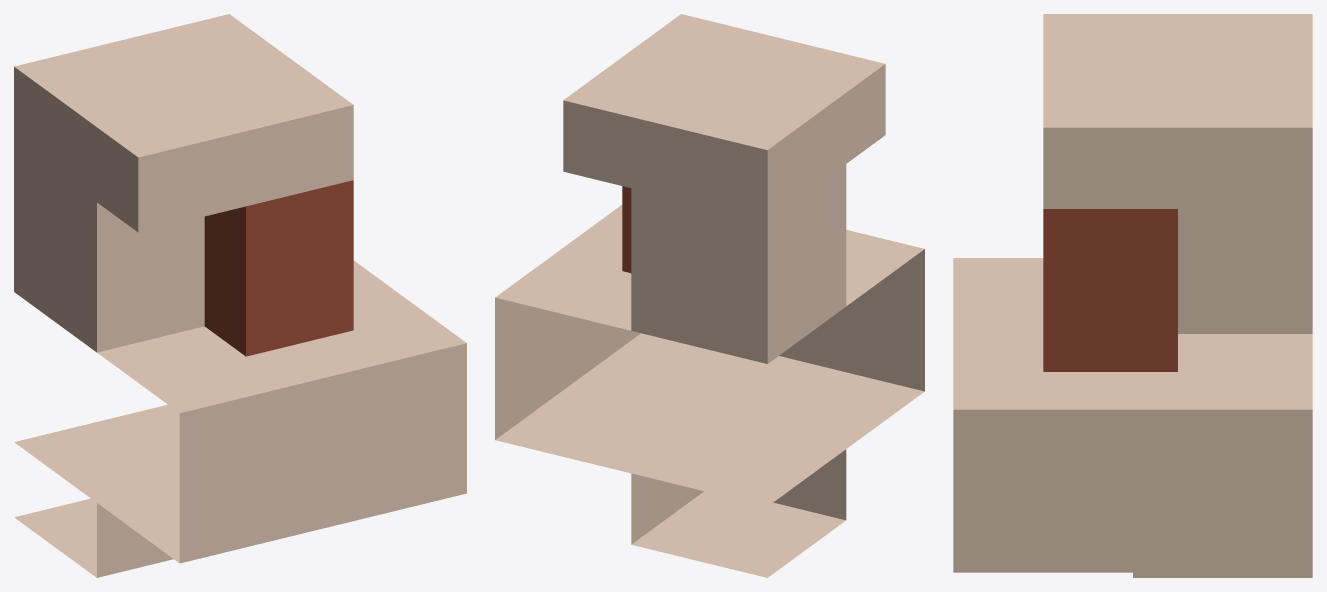
Rendered from greek_wall_divider_1_corner.fbx.
3 renders of one model, left to right at view 1: azimuth 30°, elevation 25°; view 2: azimuth 150°, elevation 25°; view 3: azimuth 270°, elevation 25°, orthographic. The views are drawn at different scales.
Parts seen in each view (by area): view 1: Cube.028; view 2: Cube.028; view 3: Cube.028.
Part boxes in pixels (box(x1,y1,x2,y2)): Cube.028: box(14, 14, 466, 577); Cube.028: box(495, 14, 924, 577); Cube.028: box(953, 14, 1312, 577).
Size of the model in its own units: 40 by 60 by 40.
